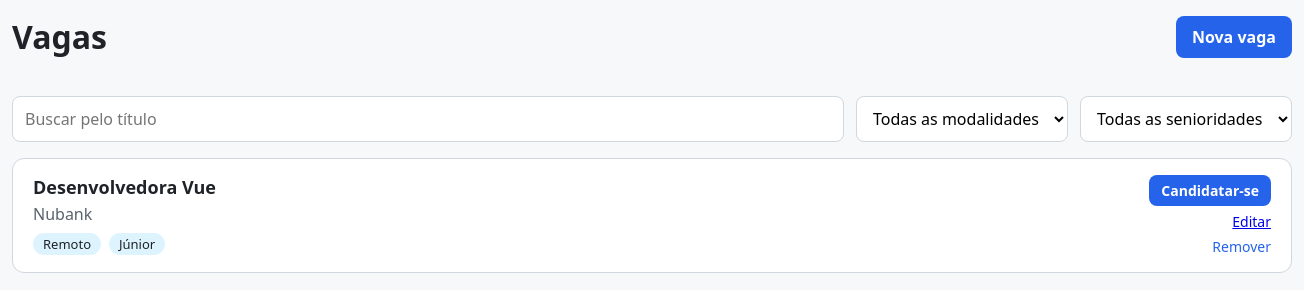
VagasView › candidatar-se › se a candidatura já existia (409), atualiza a tela sem mostrar erro
The image size is (1304, 290).
Click the button with test id "candidatar" at (1210, 190), box [1149,175,1271,206]
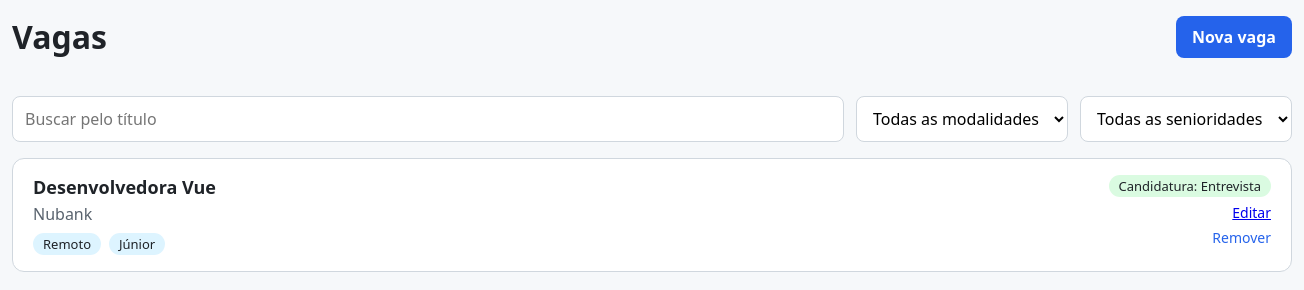
Now the link with test id "candidatura" reads "Candidatura: Entrevista", box [1108,175,1271,197]
